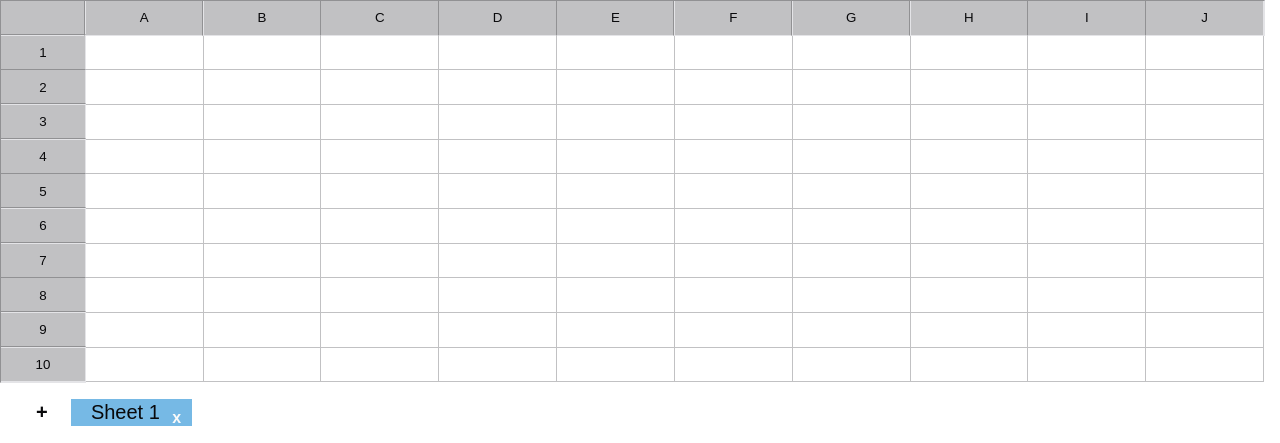
Test: Spreadsheet component with context › should allow tab creation
Expected: the button "Sheet 1" is shown, x1=71 y1=399 x2=192 y2=426
Expected: the text "Sheet 2" is not shown
Click the button "+".
click(42, 413)  # box x1=16 y1=399 x2=68 y2=426
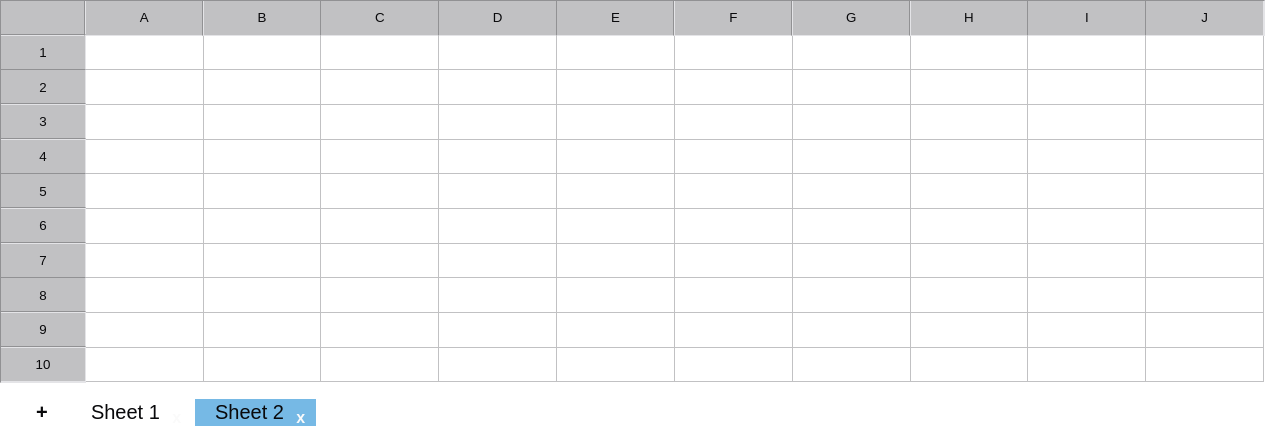
Result: the button "Sheet 2" is shown at x1=195 y1=399 x2=316 y2=426
Result: the number of buttons "Sheet 1" is 2 at x1=71 y1=399 x2=192 y2=426; x1=195 y1=399 x2=316 y2=426
